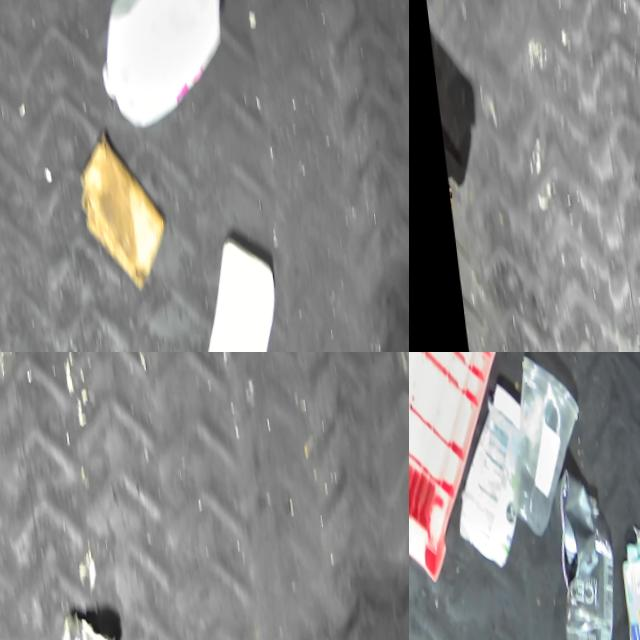can: (534, 471, 593, 602), (41, 610, 109, 640)
milk_jug: (79, 0, 229, 132)
plastic_bottle: (541, 491, 616, 640)
